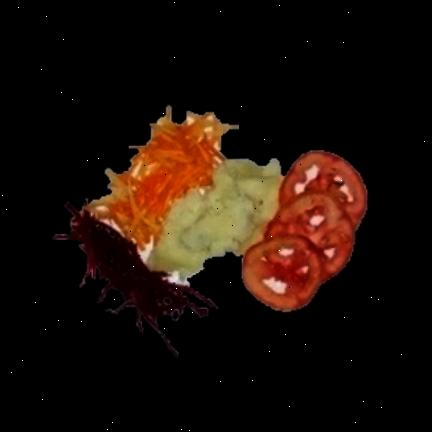beet: (52, 203, 215, 356)
carrot: (86, 107, 237, 249)
tomato: (241, 151, 366, 311), (148, 160, 281, 277)
